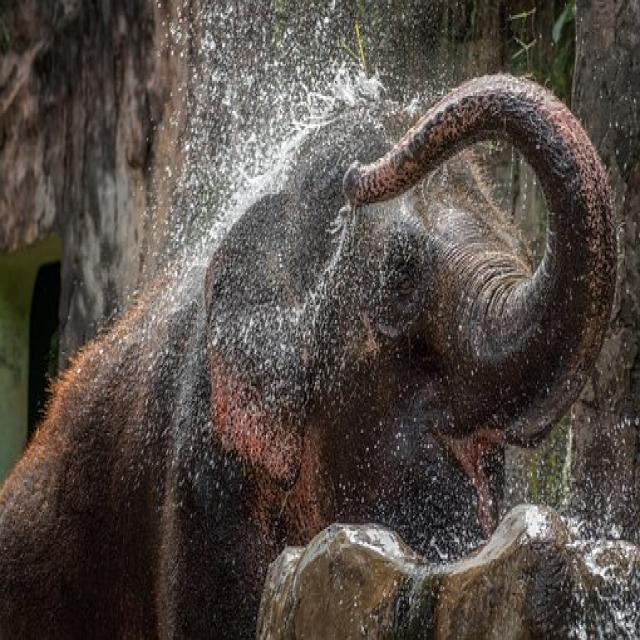Elephant: (23, 68, 626, 640)
